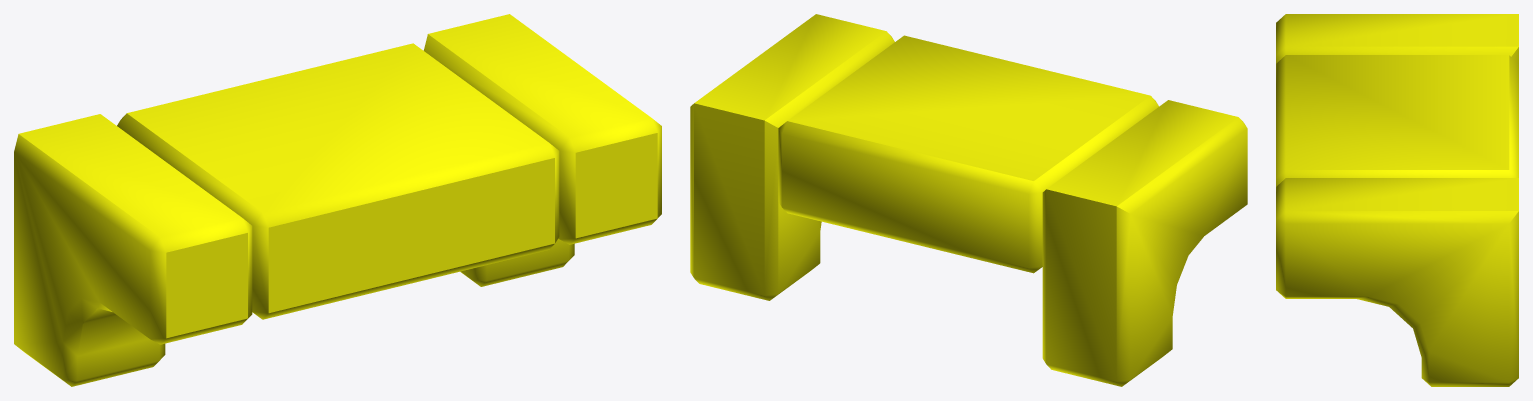
File: kaykit-shelf-a-small.glb
The picture shows the model from 3 angles, left to right: view 1: azimuth 30°, elevation 25°; view 2: azimuth 150°, elevation 25°; view 3: azimuth 270°, elevation 25°; orthographic projection. The views are drawn at different scales.
Parts seen in each view (by area): view 1: shelf_A_small; view 2: shelf_A_small; view 3: shelf_A_small.
Part boxes in pixels (<box>): shelf_A_small: <box>14,14,661,386</box>; shelf_A_small: <box>690,14,1247,386</box>; shelf_A_small: <box>1276,14,1518,386</box>.
Size of the model in its own units: 1 by 0.3999 by 0.5001.
